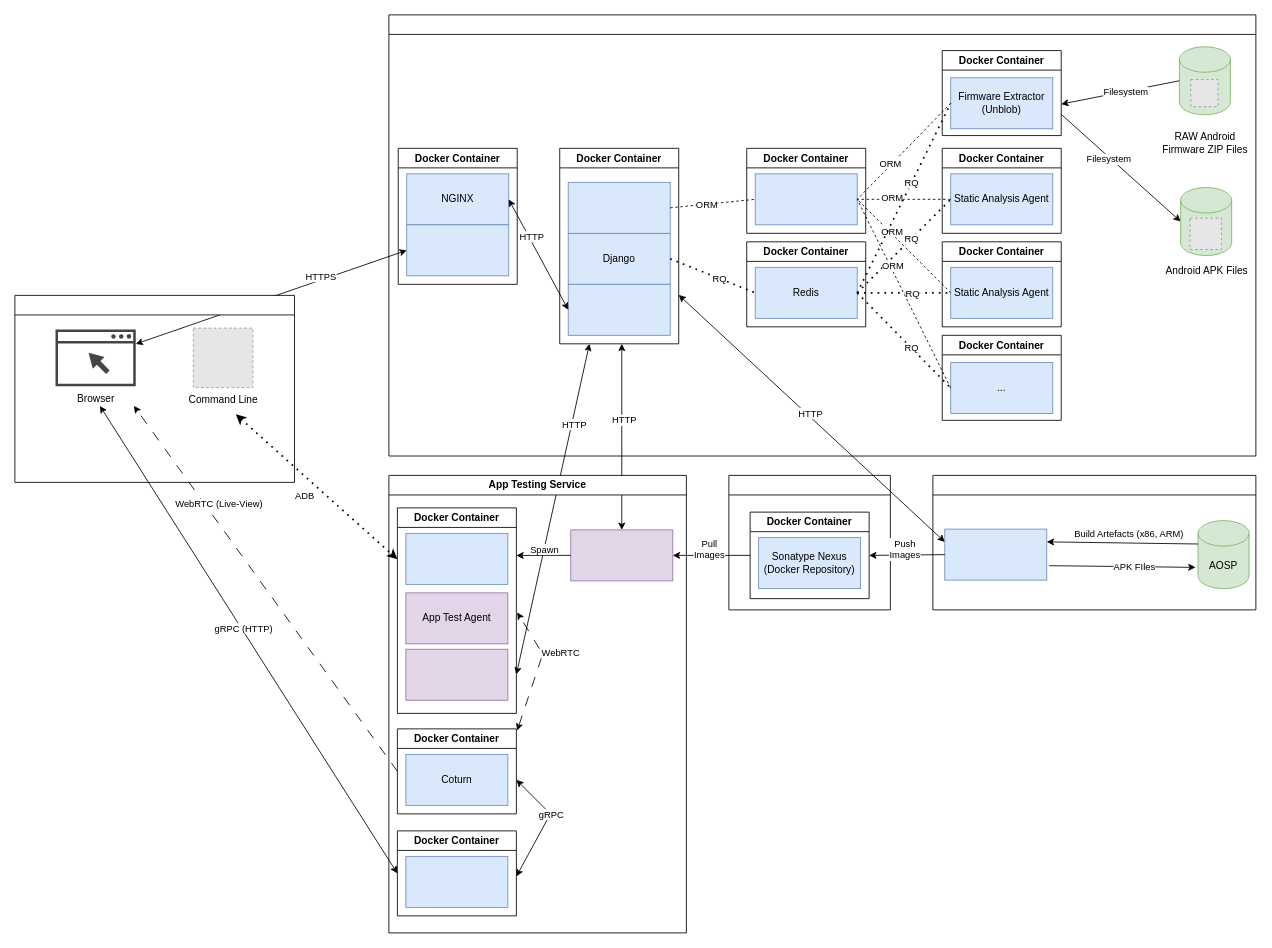
The diagram is 1272 pixels wide and 948 high, and some of its shapes have lost their labels. Grey dashed boxes stand in for pictures. The shapes that lost their labels are listed below. From the top down, each one's box as (x1, y1, x2, y2) in pixels, then its label:
(567, 181, 670, 233): MongoEngine ORM
(754, 173, 857, 225): Mongo-DB
(406, 224, 509, 276): React Web User Interface
(388, 14, 1256, 456): FirmwareDroid Main Service
(567, 283, 670, 335): GraphQL API
(14, 295, 295, 482): Client Machine
(405, 533, 508, 584): Android Emulator
(570, 529, 673, 581): Container Orchestration Service
(728, 475, 890, 610): Docker Image Repository
(944, 528, 1047, 580): AOSP Build Service
(932, 475, 1256, 610): AOSP Image Build Service
(405, 648, 508, 700): Monitoring Agent
(405, 856, 508, 907): Envoy
